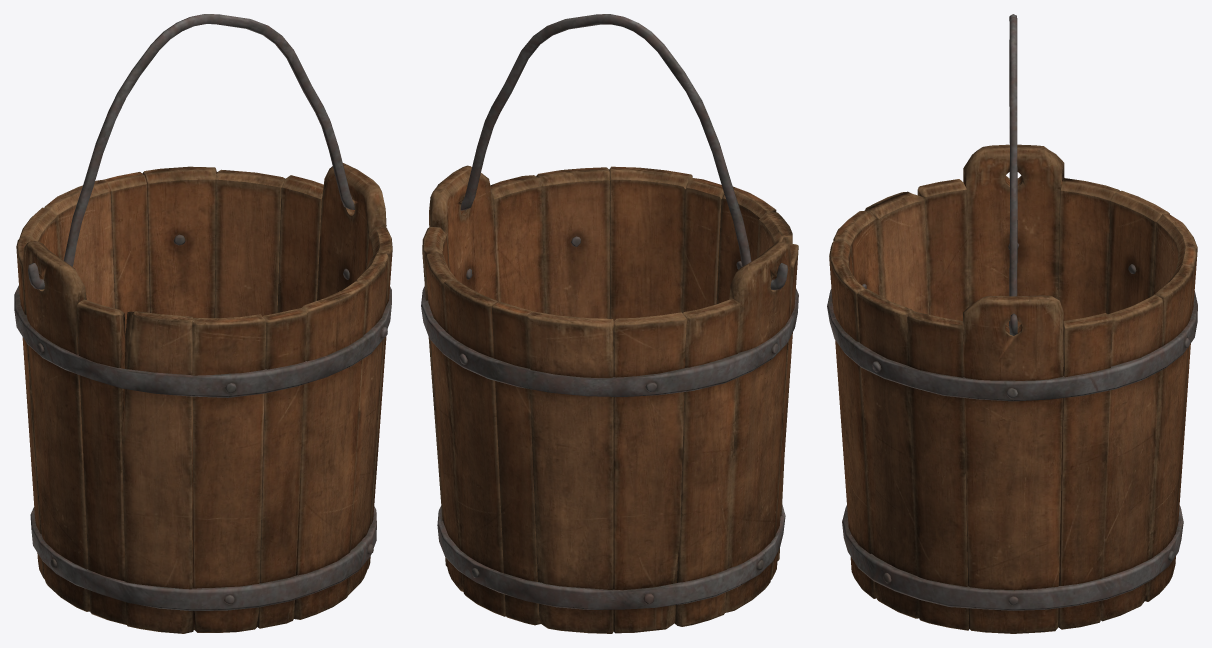
File: wooden_bucket_01.glb
3 views of the same model, side by side, from view 1: azimuth 30°, elevation 25°; view 2: azimuth 150°, elevation 25°; view 3: azimuth 270°, elevation 25° (orthographic).
Parts seen in each view (by area): view 1: wooden_bucket_01, wooden_bucket_01_handle; view 2: wooden_bucket_01, wooden_bucket_01_handle; view 3: wooden_bucket_01, wooden_bucket_01_handle.
Part boxes in pixels (x1=…): wooden_bucket_01: x1=14, y1=163, x2=392, y2=633; wooden_bucket_01_handle: x1=28, y1=14, x2=354, y2=289; wooden_bucket_01: x1=421, y1=165, x2=798, y2=633; wooden_bucket_01_handle: x1=437, y1=14, x2=787, y2=290; wooden_bucket_01: x1=827, y1=144, x2=1197, y2=633; wooden_bucket_01_handle: x1=1009, y1=14, x2=1017, y2=335.
Bounding box in the file's own units: 0.367 × 0.5499 × 0.342.
Materials: 1 (1 with a texture image).
